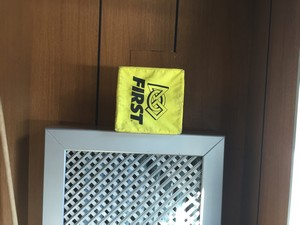cube: (116, 65, 184, 135)
